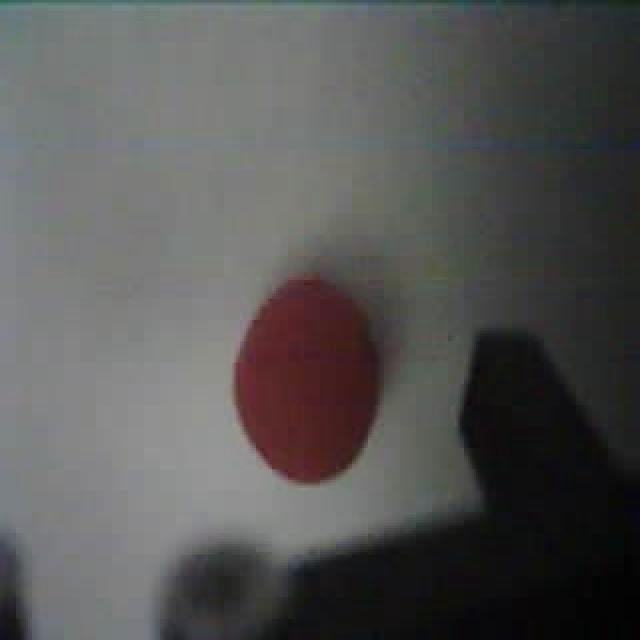red_ball: (228, 269, 386, 488)
